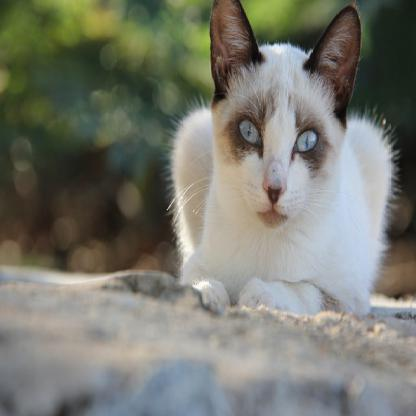cat: (171, 0, 398, 317)
